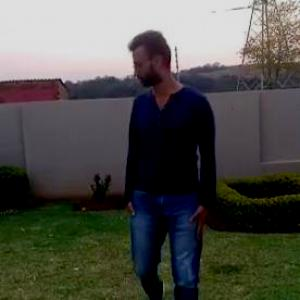follow: (117, 22, 223, 299)
